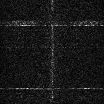wifi: (1, 86, 104, 89), (1, 23, 104, 26)
